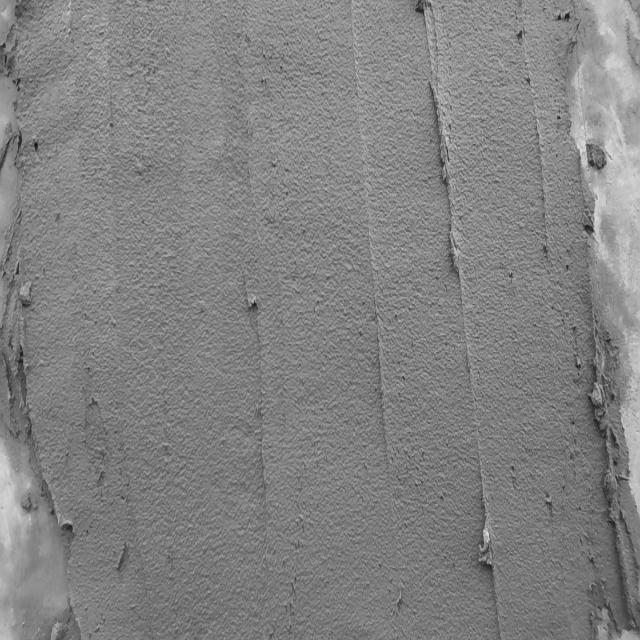trowels marks: (412, 0, 504, 625), (369, 238, 399, 478)
